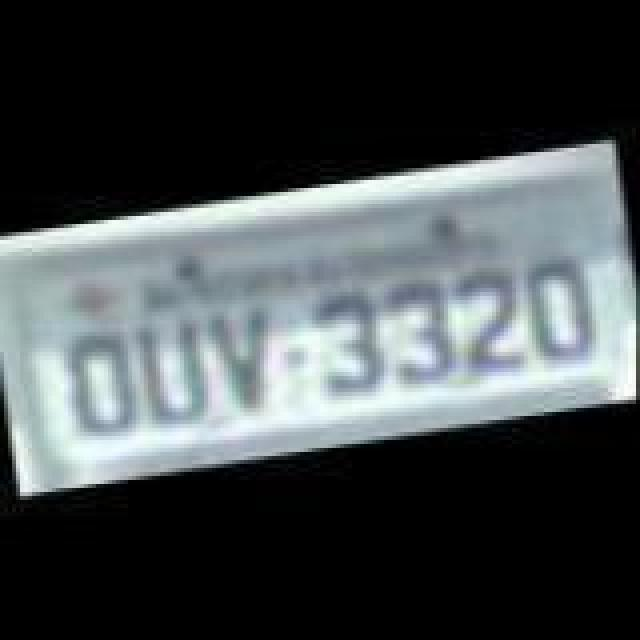2: (442, 262, 530, 382)
3: (306, 288, 394, 400), (376, 278, 452, 390)
O: (60, 316, 148, 444), (514, 248, 602, 368)
U: (128, 306, 212, 426)
V: (192, 304, 276, 420)
